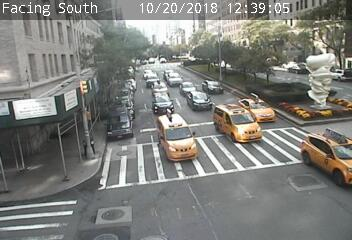car: (157, 114, 198, 160), (213, 104, 263, 141), (240, 98, 275, 122), (151, 93, 174, 113), (186, 93, 212, 108), (203, 80, 222, 93), (167, 73, 184, 85), (152, 82, 169, 94), (179, 83, 196, 93), (146, 74, 160, 86)
